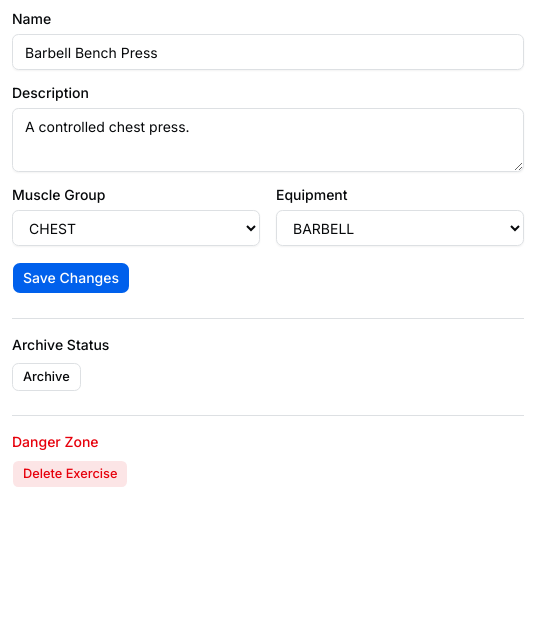
Test: EditExerciseForm › editExerciseForm_updateFailsWithFieldErrors_showsReturnedFieldErrors
Click the button "Save Changes" at (71, 278), box [12,262,130,294]
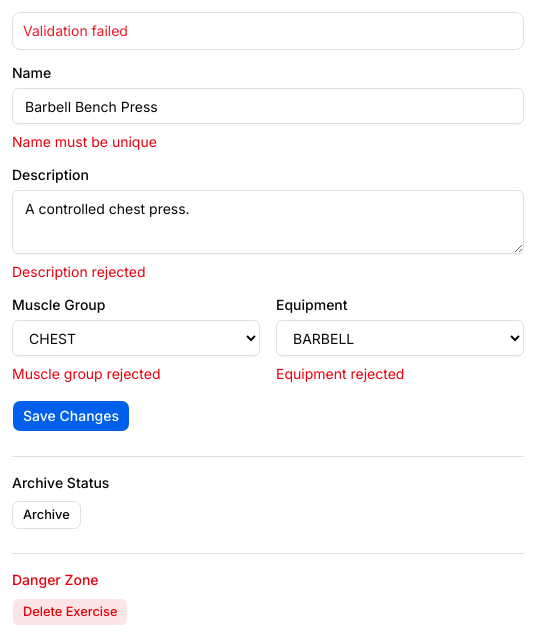
Expected: the text "Name must be unique" is shown, [12,133,157,150]
Expected: the text "Description rejected" is shown, [12,263,146,280]
Expected: the text "Muscle group rejected" is shown, [12,365,160,382]
